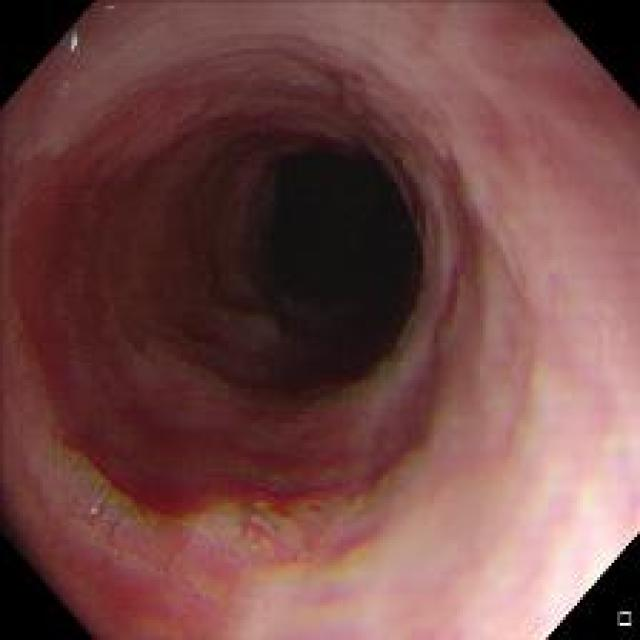blood: (32, 81, 399, 500)
color misalignment: (66, 441, 435, 588), (58, 28, 81, 60), (92, 0, 116, 14)
contrast: (189, 134, 421, 378)
saturation: (474, 500, 635, 634)
